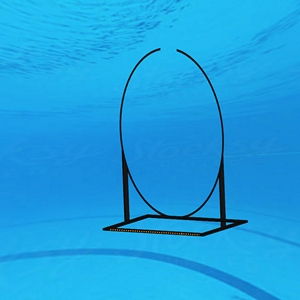circle: (101, 46, 250, 239)
